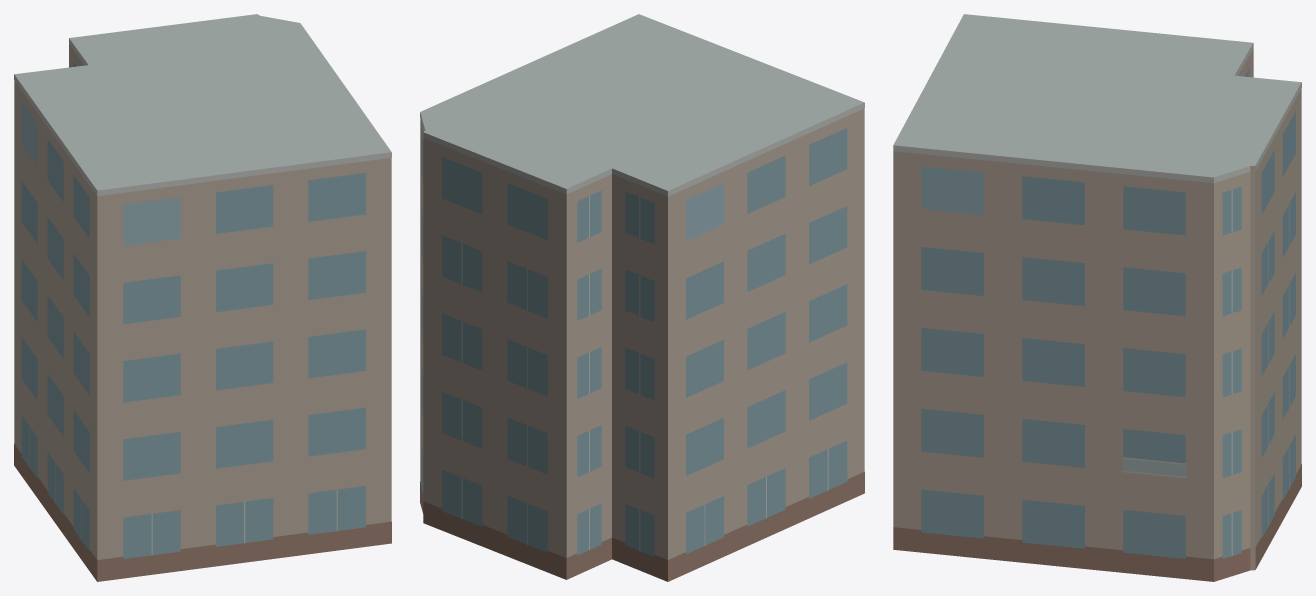
Rendered from survey-upis-32698202.glb.
3 views of the same model, side by side, from view 1: azimuth 30°, elevation 25°; view 2: azimuth 150°, elevation 25°; view 3: azimuth 270°, elevation 25° (orthographic). The views are drawn at different scales.
Visible parts, largest first — view 1: survey-upis-32698202.tmp; view 2: survey-upis-32698202.tmp; view 3: survey-upis-32698202.tmp.
Boxes of the visible parts, box(x1,y1,x2,y2) form: survey-upis-32698202.tmp: box(14, 14, 391, 581); survey-upis-32698202.tmp: box(420, 14, 864, 581); survey-upis-32698202.tmp: box(893, 14, 1301, 581).
Bounding box in the file's own units: 14.83 × 17.1 × 15.67.
